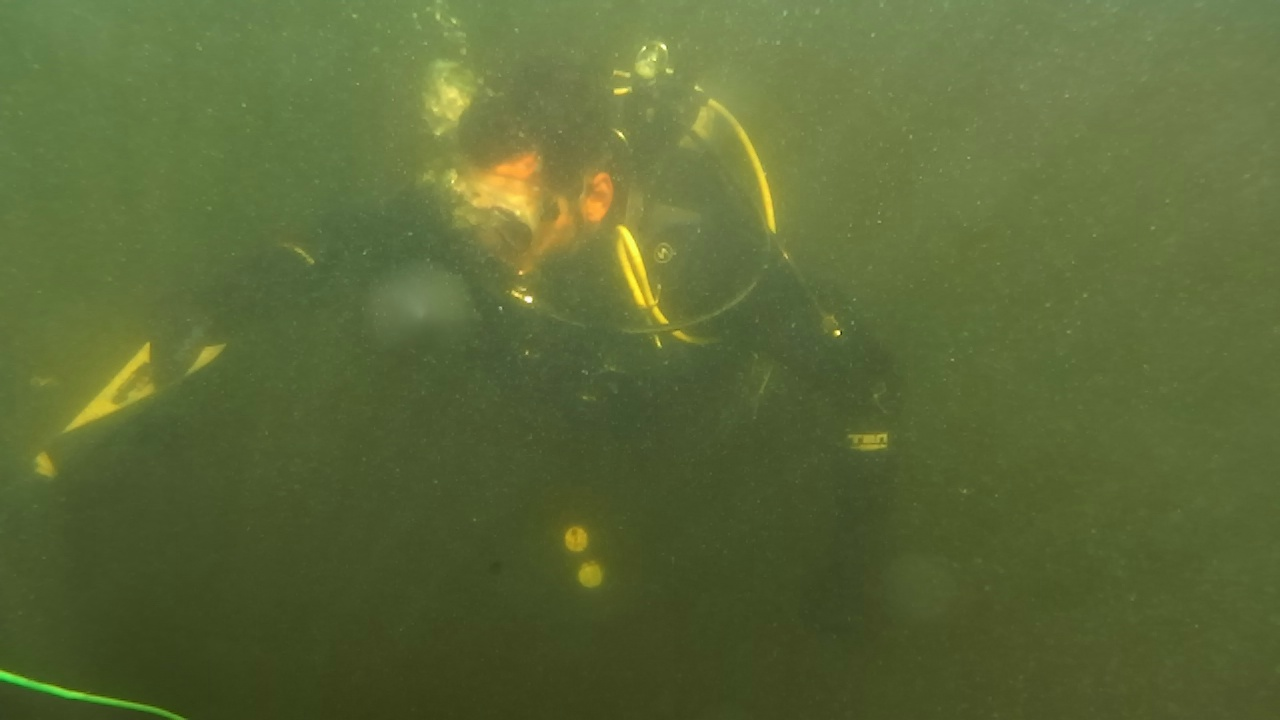Diver: (40, 24, 928, 686)
Hand: (88, 278, 298, 406), (778, 496, 908, 648)
Head: (416, 46, 662, 314)
